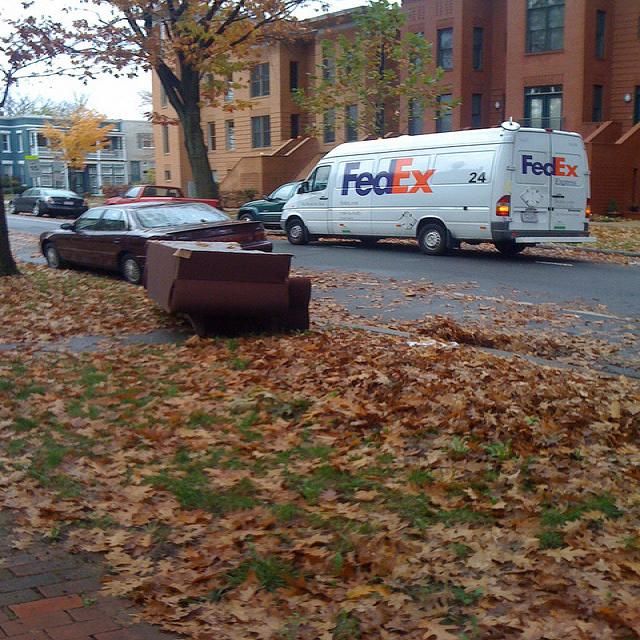Vehicle: (282, 121, 603, 253), (286, 129, 586, 256), (38, 201, 274, 285), (237, 181, 299, 230), (101, 184, 223, 208), (8, 187, 88, 218)
